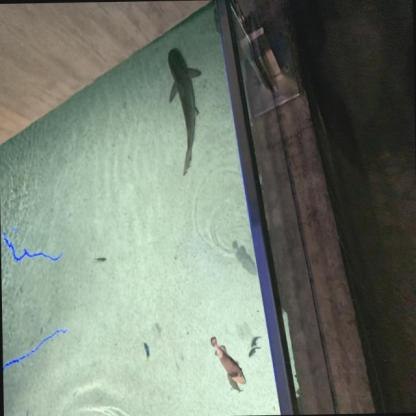fish: (206, 333, 247, 390), (229, 238, 258, 281), (227, 373, 242, 395), (142, 342, 152, 363), (92, 254, 107, 264)
shark: (166, 48, 204, 176)
